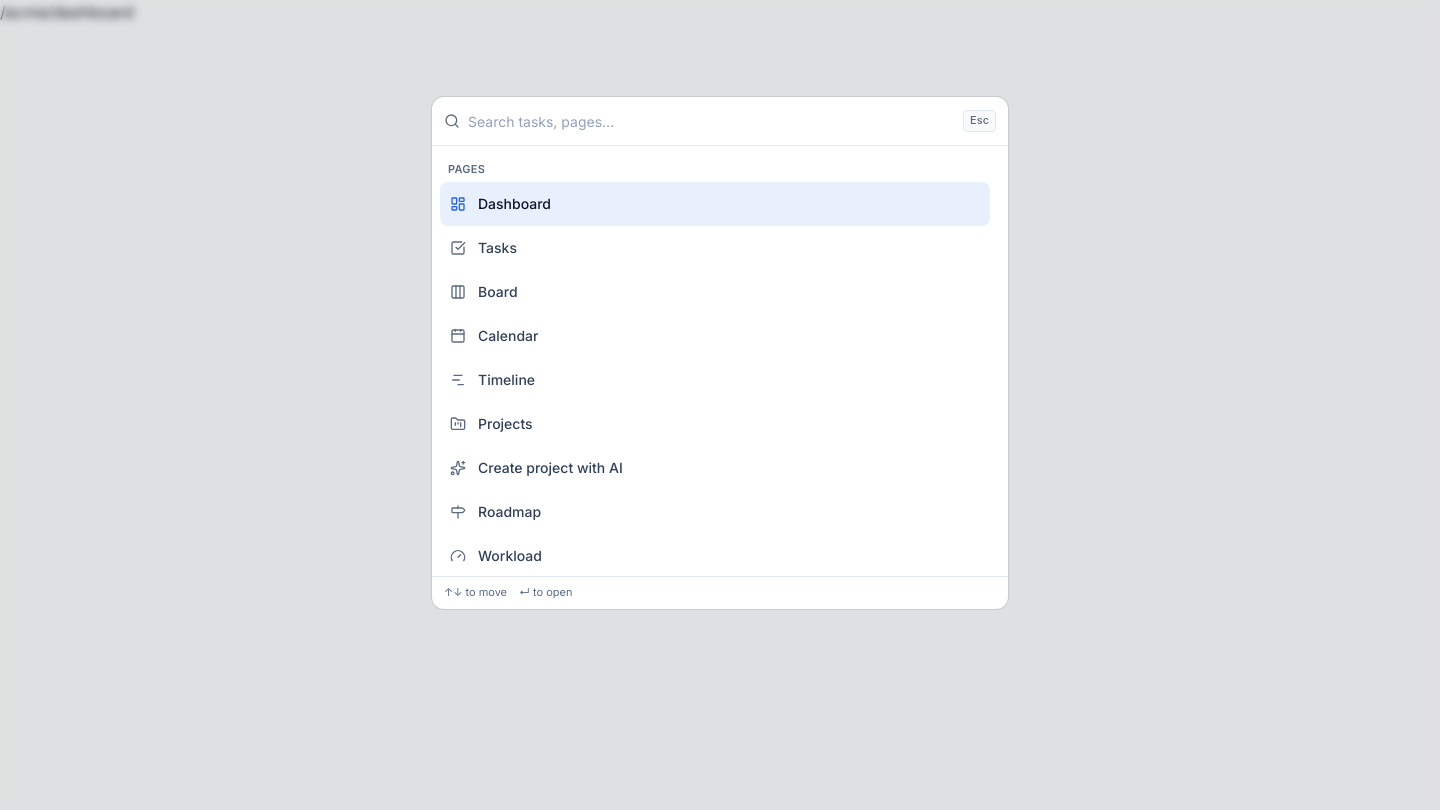
Test: CommandPalette › navigates to a task and closes
This screenshot has width=1440, height=810.
In the dropdown: (712, 121) [468,97,955,145], type "login"
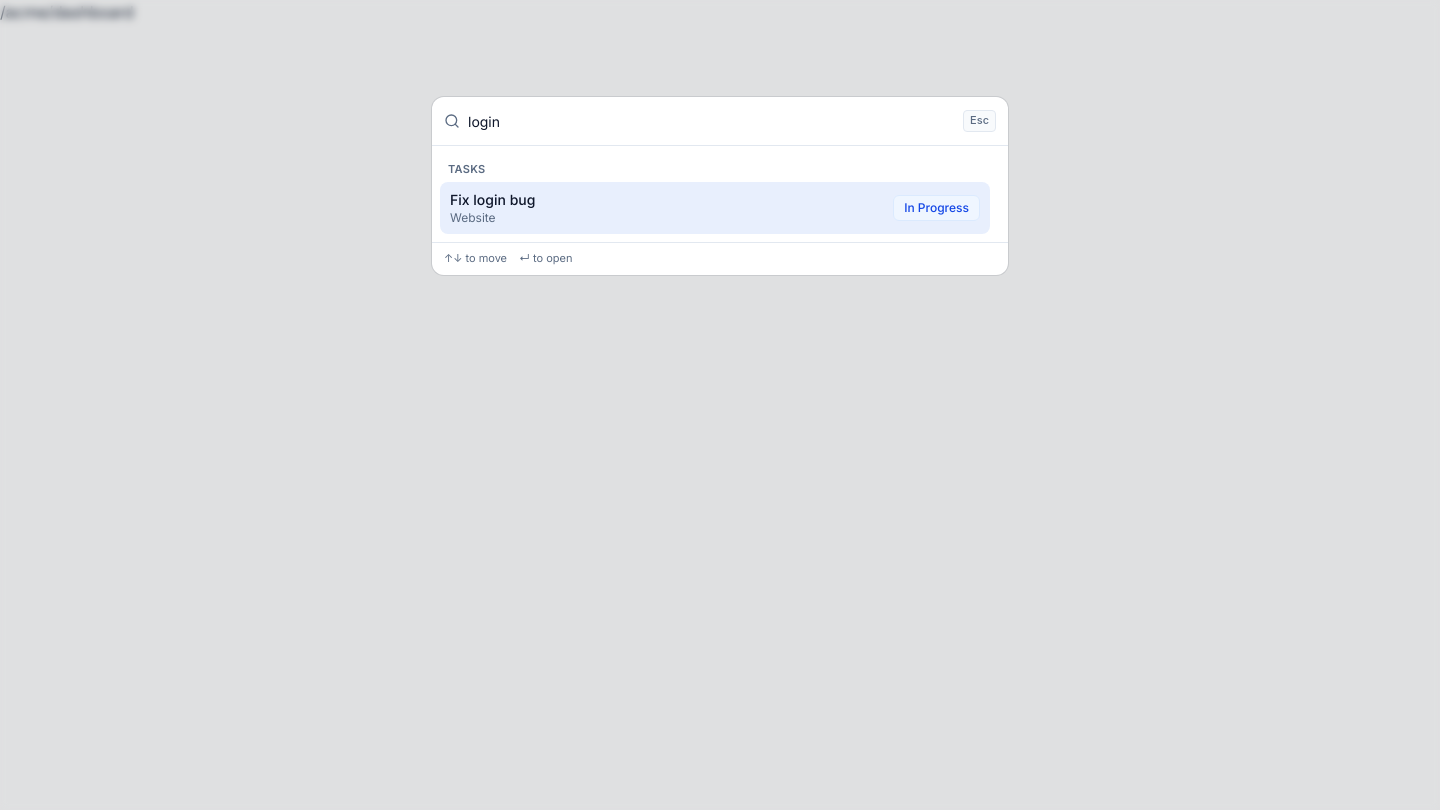
Now the option "Fix login bug Website In Progress" is shown, box [440,182,990,234]
Press Enter
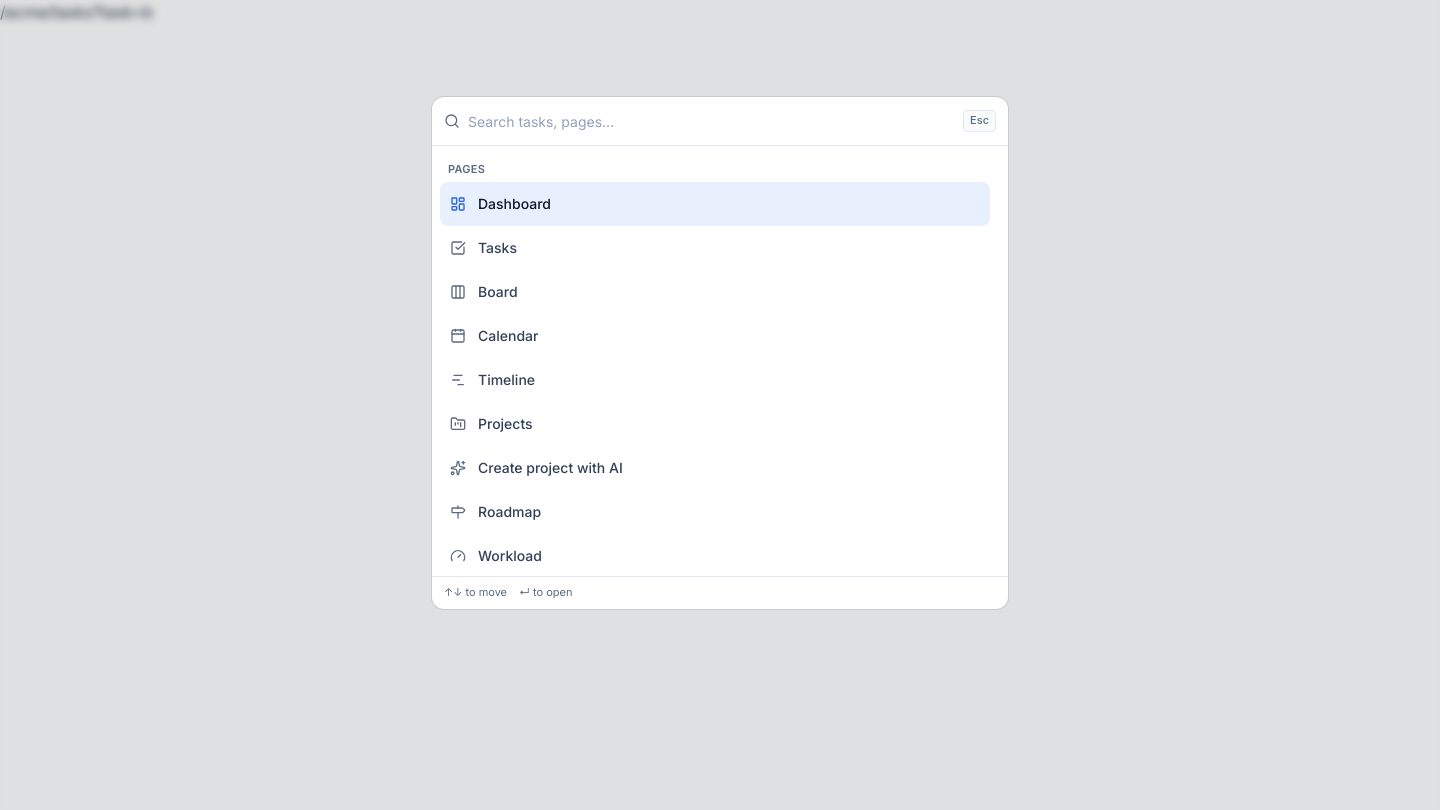
Now the text with test id "where" reads "/acme/tasks?task=b", box [0,2,153,22]
